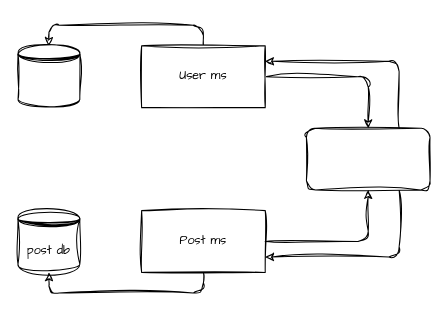
The diagram is 448 pixels wide and 319 high, and some of its shapes have lost their labels. Each missing label, with the centre of its shape:
"Rabbit MQ" belongs at (x=367, y=158).
"user db" belongs at (x=48, y=76).
